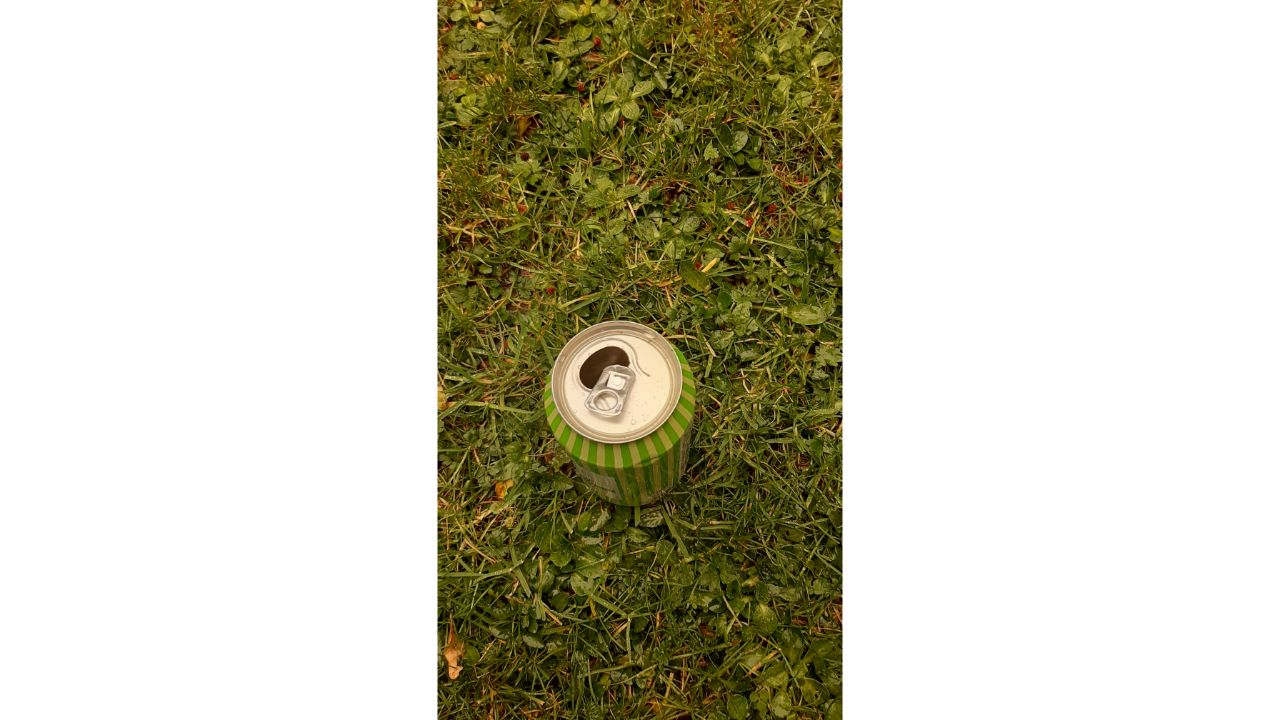Can: (530, 307, 711, 519)
